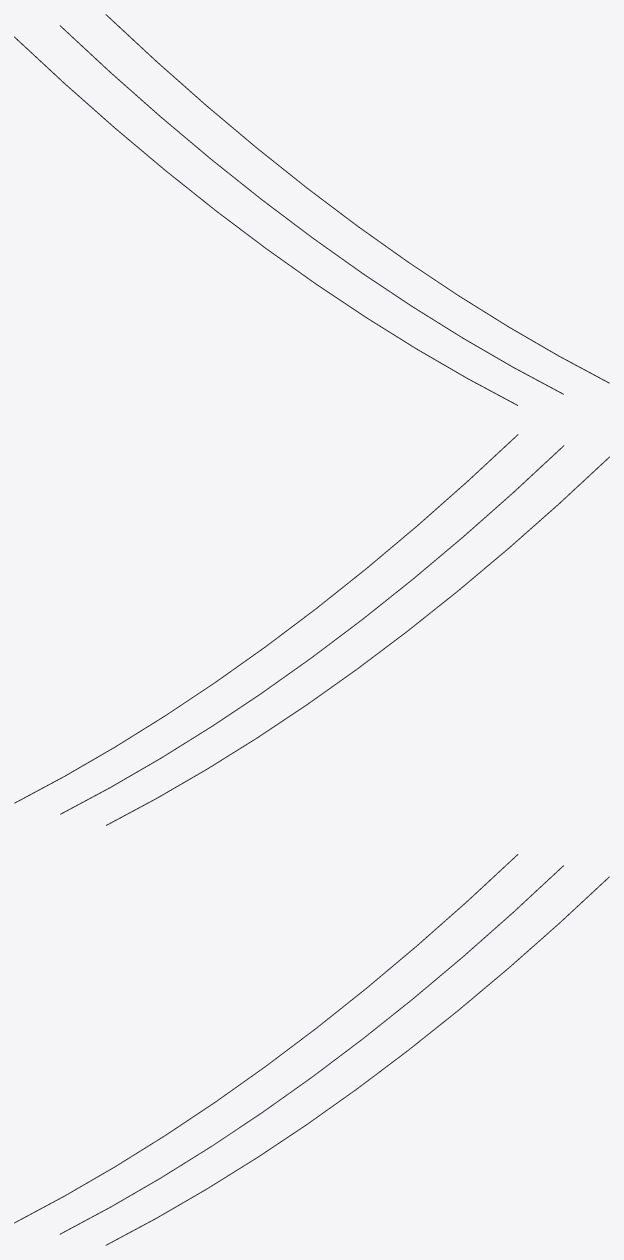
File: UT_PowerLine_Span20m.obj
3 renders of one model, top to bottom at view 1: azimuth 30°, elevation 25°; view 2: azimuth 150°, elevation 25°; view 3: azimuth 330°, elevation 25°, orthographic.
Visible parts, largest first — view 1: UT_PowerLine_Span20m; view 2: UT_PowerLine_Span20m; view 3: UT_PowerLine_Span20m.
Part boxes in pixels (x1,y1,x2,y2): UT_PowerLine_Span20m: (14,14,609,405); UT_PowerLine_Span20m: (14,434,609,825); UT_PowerLine_Span20m: (14,854,609,1245).
Size of the model in its own units: 2.12 by 0.6207 by 20.
Materials: 1 (1 with a texture image).
